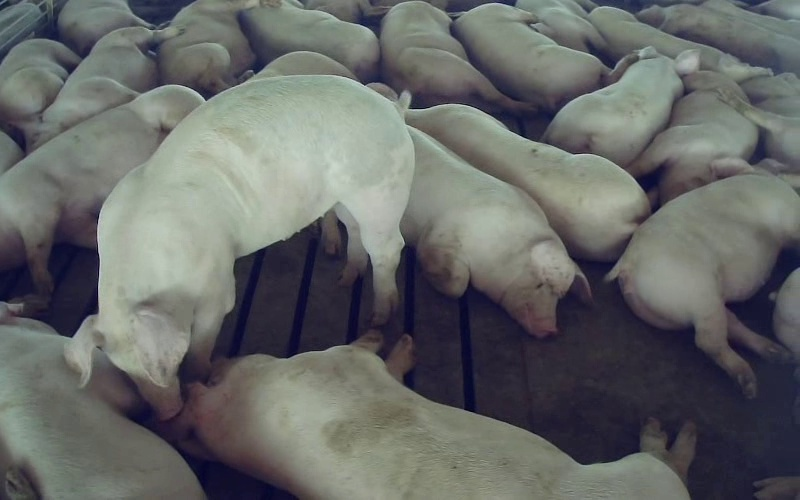pig: (65, 76, 413, 418), (154, 331, 695, 499), (606, 158, 799, 397), (0, 85, 203, 298), (401, 127, 590, 337), (406, 105, 650, 261), (9, 27, 177, 152), (452, 3, 637, 112), (542, 47, 698, 166), (628, 71, 758, 204), (380, 2, 533, 114), (588, 6, 772, 82), (636, 4, 799, 76), (239, 0, 379, 82), (720, 73, 799, 172), (0, 39, 80, 122), (515, 0, 606, 54)
